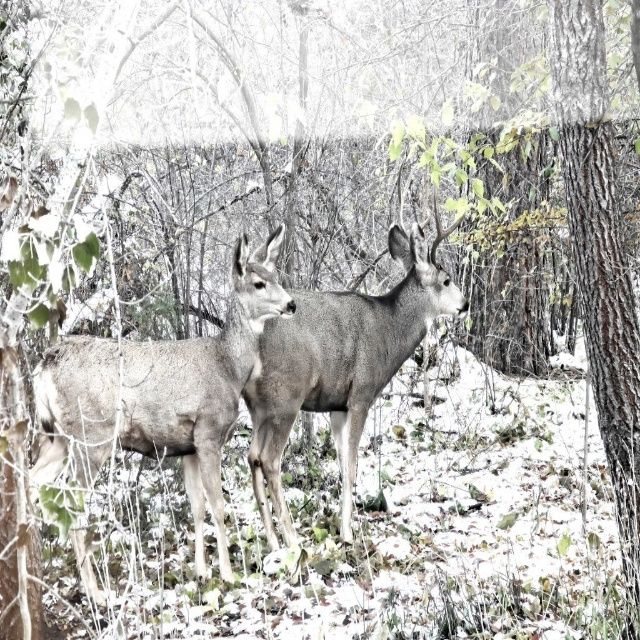Deer: (29, 223, 297, 589), (242, 164, 470, 551)
